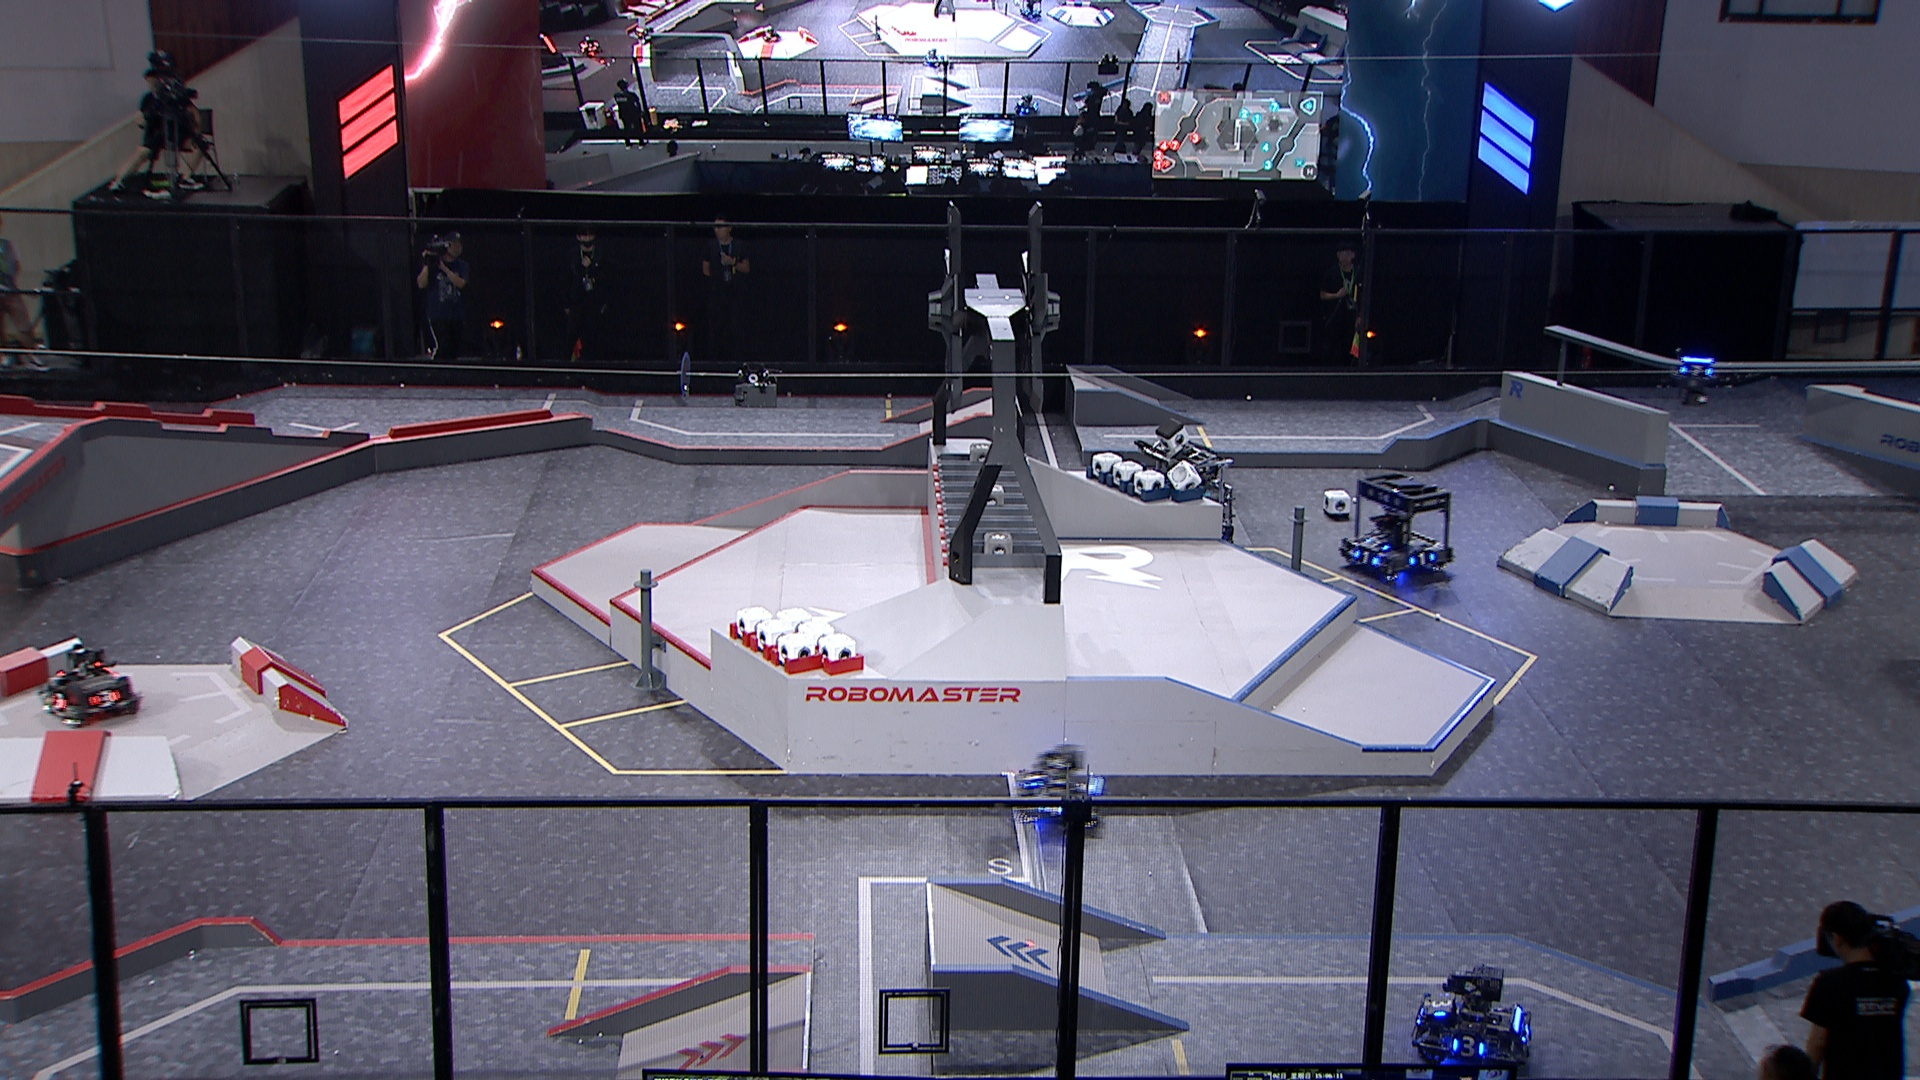armor: (1448, 1035, 1487, 1062), (87, 688, 120, 707), (1679, 363, 1713, 378), (1427, 996, 1452, 1017), (1353, 549, 1381, 567), (1022, 767, 1044, 790), (47, 690, 69, 711), (1408, 553, 1436, 567), (1365, 537, 1390, 553)
car: (1408, 963, 1536, 1077), (1337, 469, 1455, 583), (1133, 436, 1236, 551), (34, 644, 141, 728), (1010, 740, 1102, 829)
ignore: (535, 30, 564, 69), (1011, 92, 1040, 115), (923, 47, 945, 69), (578, 34, 600, 53), (761, 26, 782, 44), (632, 26, 651, 44)
watcher: (1673, 348, 1716, 405)
